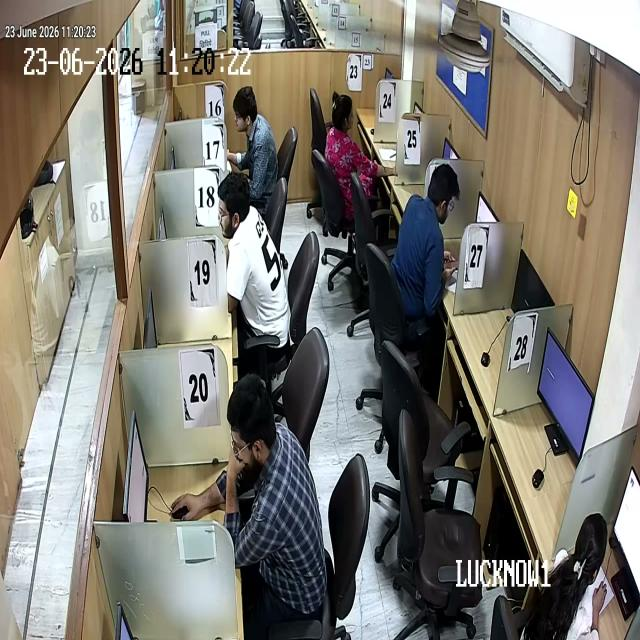phone: (439, 247, 461, 283)
